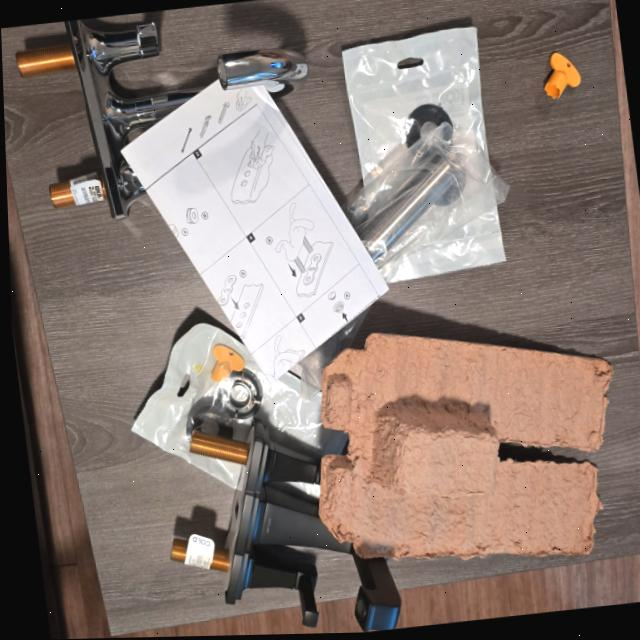10o: (16, 18, 201, 218), (15, 18, 198, 218), (216, 48, 307, 94)
11o: (347, 121, 507, 281)
12o: (131, 322, 346, 486)
13o: (342, 25, 508, 281)
14: (544, 51, 580, 96)
8: (121, 79, 387, 378)
9o: (171, 419, 352, 625), (341, 541, 400, 630)
